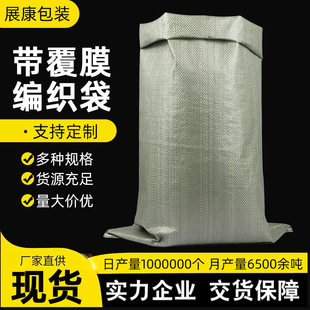Parcel: (126, 14, 290, 245)
